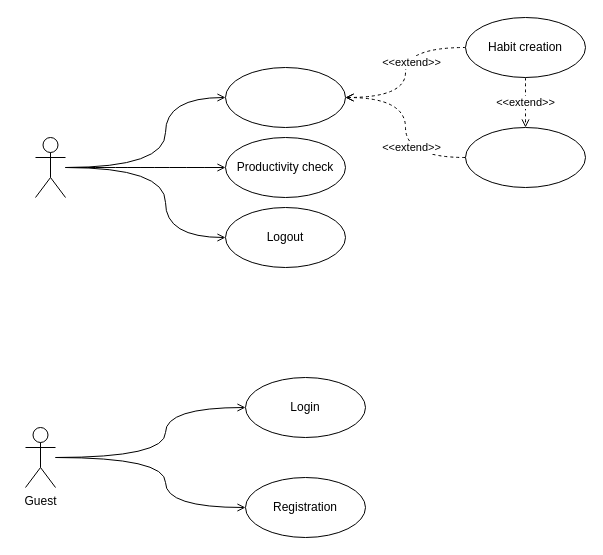
The diagram is 603 pixels wide and 555 high, and some of its shapes have lost their labels. The centre of each missing label's shape, as x and y in pixels:
"Habit tracking" goes at (285,97).
"Habit usage" goes at (525,157).
"Logged user" goes at (50,167).
